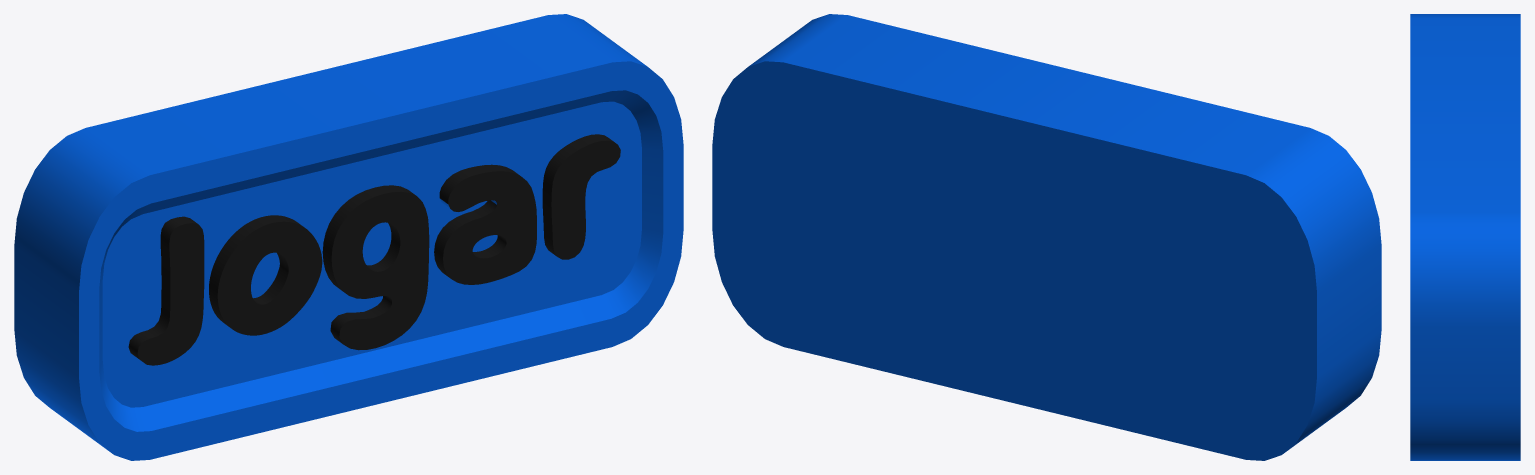
The model's file is botao_jogar.fbx.
3 views of the same model, side by side, from view 1: azimuth 30°, elevation 25°; view 2: azimuth 150°, elevation 25°; view 3: azimuth 270°, elevation 25° (orthographic). The views are drawn at different scales.
Parts seen in each view (by area): view 1: Botao_Jogar; view 2: Botao_Jogar; view 3: Botao_Jogar.
Boxes of the visible parts, x1,y1,x2,y2 form: Botao_Jogar: (14, 14, 683, 460); Botao_Jogar: (712, 14, 1381, 460); Botao_Jogar: (1410, 14, 1520, 460).
Bounding box in the file's own units: 127 × 57.25 × 23.54.
